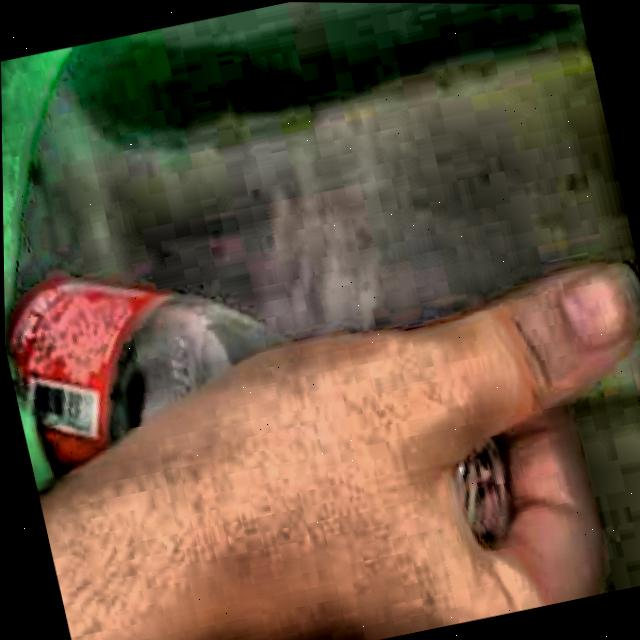glass: (5, 279, 280, 473), (453, 440, 510, 549)
